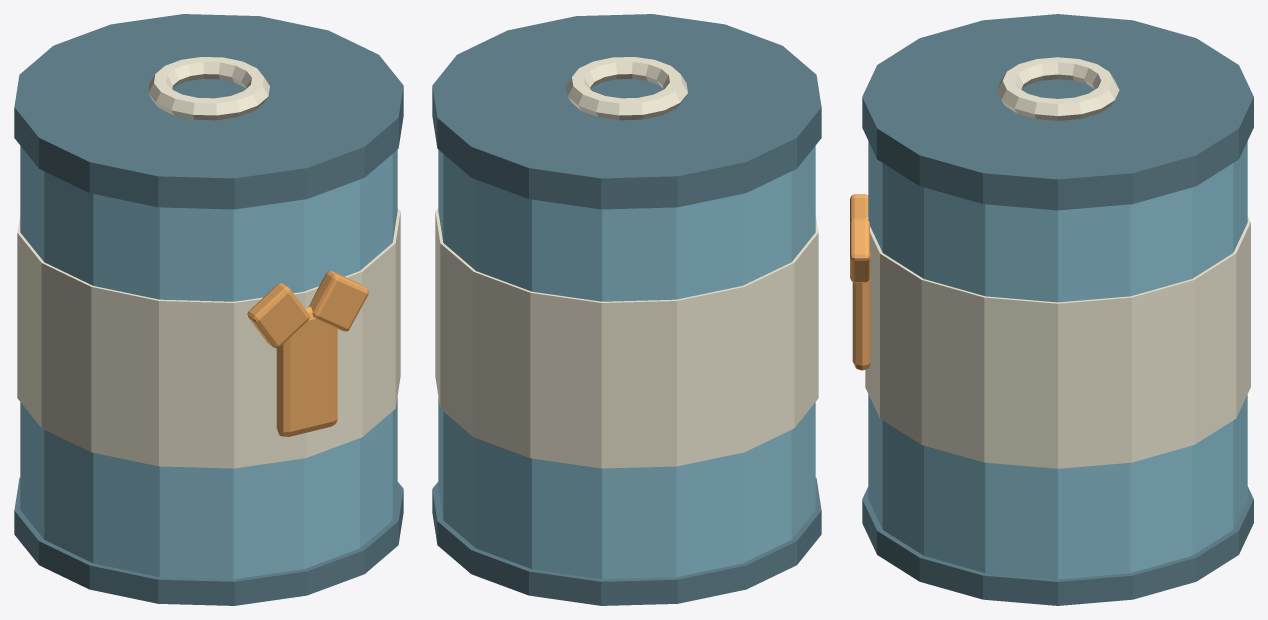
The model's file is food_ration_runtime.glb.
3 renders of one model, left to right at view 1: azimuth 30°, elevation 25°; view 2: azimuth 150°, elevation 25°; view 3: azimuth 270°, elevation 25°, orthographic.
Visible parts, largest first — view 1: Ración, RacionTurbo_Relieve, RacionTurbo_Etiqueta, RacionTurbo_Sello; view 2: Ración, RacionTurbo_Etiqueta, RacionTurbo_Relieve; view 3: Ración, RacionTurbo_Etiqueta, RacionTurbo_Relieve, RacionTurbo_Sello.
Boxes of the visible parts, x1=… form: Ración: x1=20, y1=146, x2=397, y2=579; RacionTurbo_Relieve: x1=14, y1=14, x2=403, y2=605; RacionTurbo_Etiqueta: x1=17, y1=57, x2=400, y2=468; RacionTurbo_Sello: x1=247, y1=271, x2=368, y2=436; Ración: x1=438, y1=146, x2=815, y2=579; RacionTurbo_Etiqueta: x1=435, y1=57, x2=818, y2=468; RacionTurbo_Relieve: x1=432, y1=14, x2=821, y2=605; Ración: x1=868, y1=141, x2=1247, y2=579; RacionTurbo_Etiqueta: x1=865, y1=57, x2=1250, y2=468; RacionTurbo_Relieve: x1=862, y1=14, x2=1253, y2=605; RacionTurbo_Sello: x1=850, y1=194, x2=870, y2=370.
Size of the model in its own units: 0.516 by 0.6434 by 0.532.
